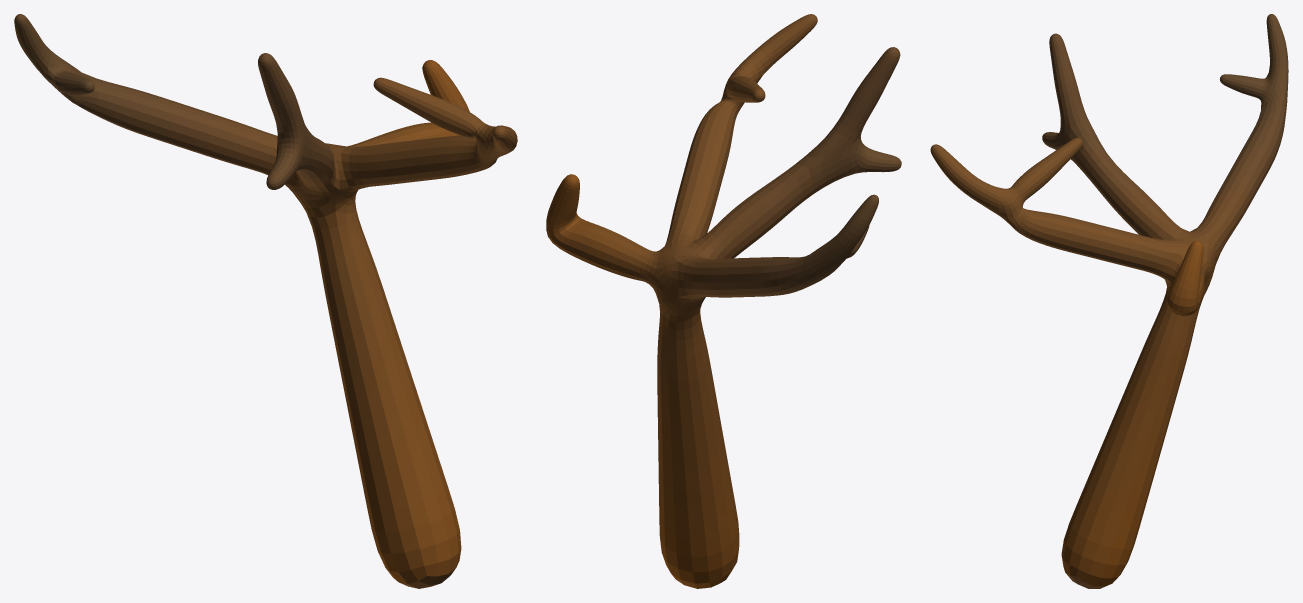
File: TA_sm_tree_var01.fbx
The picture shows the model from 3 angles, left to right: view 1: azimuth 30°, elevation 25°; view 2: azimuth 150°, elevation 25°; view 3: azimuth 270°, elevation 25°; orthographic projection. The views are drawn at different scales.
Parts seen in each view (by area): view 1: Arbol; view 2: Arbol; view 3: Arbol.
Boxes of the visible parts, x1,y1,x2,y2 form: Arbol: (14,14,517,588); Arbol: (546,14,901,588); Arbol: (930,14,1288,588).
Bounding box in the file's own units: 5.54 × 7.81 × 5.27.
Materials: 1 (1 with a texture image).
